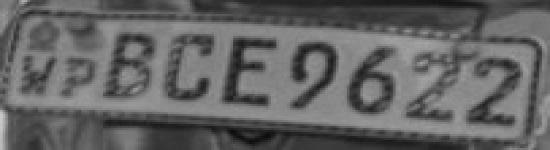2: (462, 53, 530, 132), (404, 44, 462, 126)
6: (339, 42, 405, 118)
9: (287, 35, 340, 116)
B: (104, 28, 160, 103)
C: (160, 31, 218, 107)
E: (218, 32, 287, 112)
P: (56, 53, 99, 99)
W: (17, 52, 60, 98)
